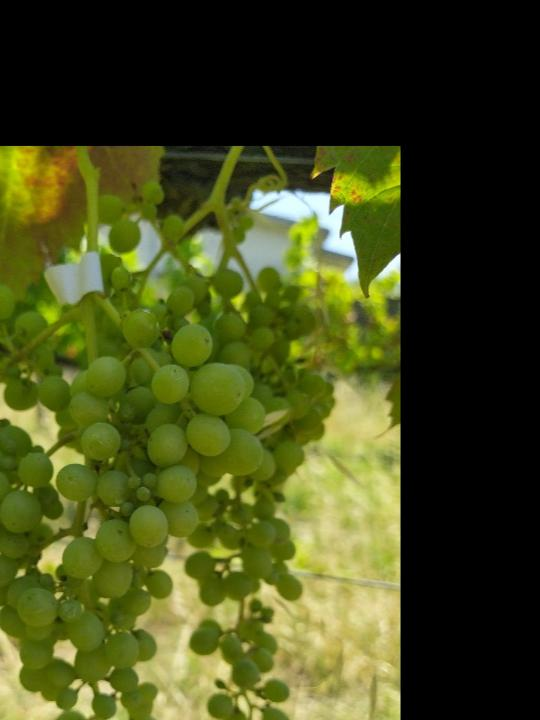grape: (0, 256, 265, 720)
